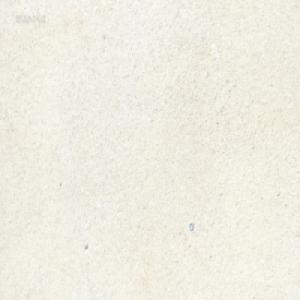Washer: (189, 221, 194, 230)
